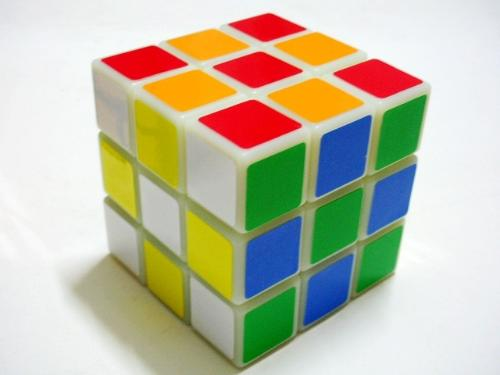cube: (78, 10, 436, 371)
